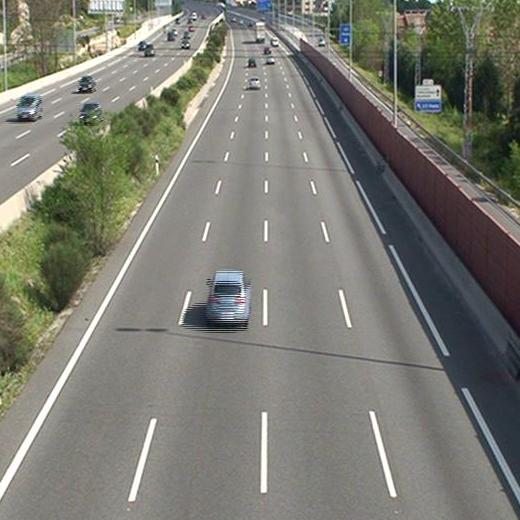car: (205, 270, 248, 324), (247, 76, 260, 90), (265, 55, 275, 64), (247, 58, 255, 68)
